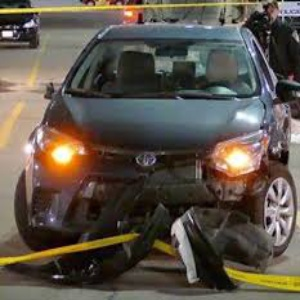bonnet: (209, 95, 265, 132)
bumper: (134, 205, 272, 288)
